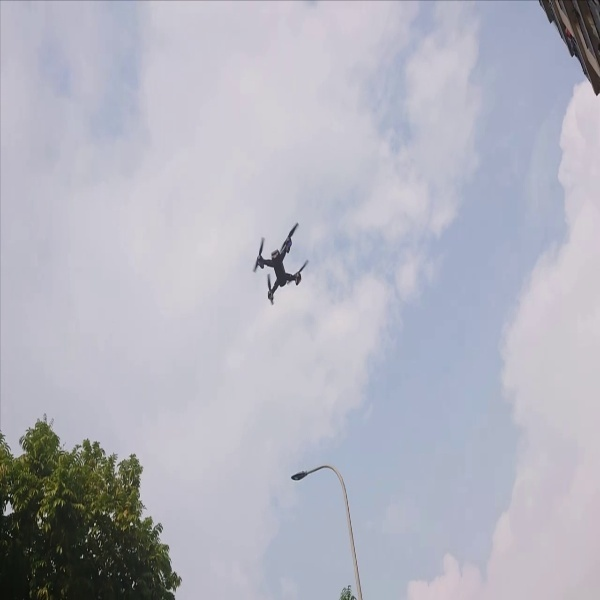drone: (244, 222, 316, 306)
